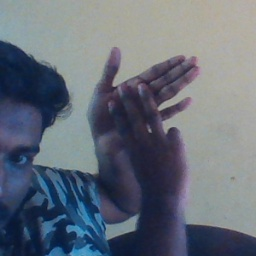M: (85, 46, 201, 183)
